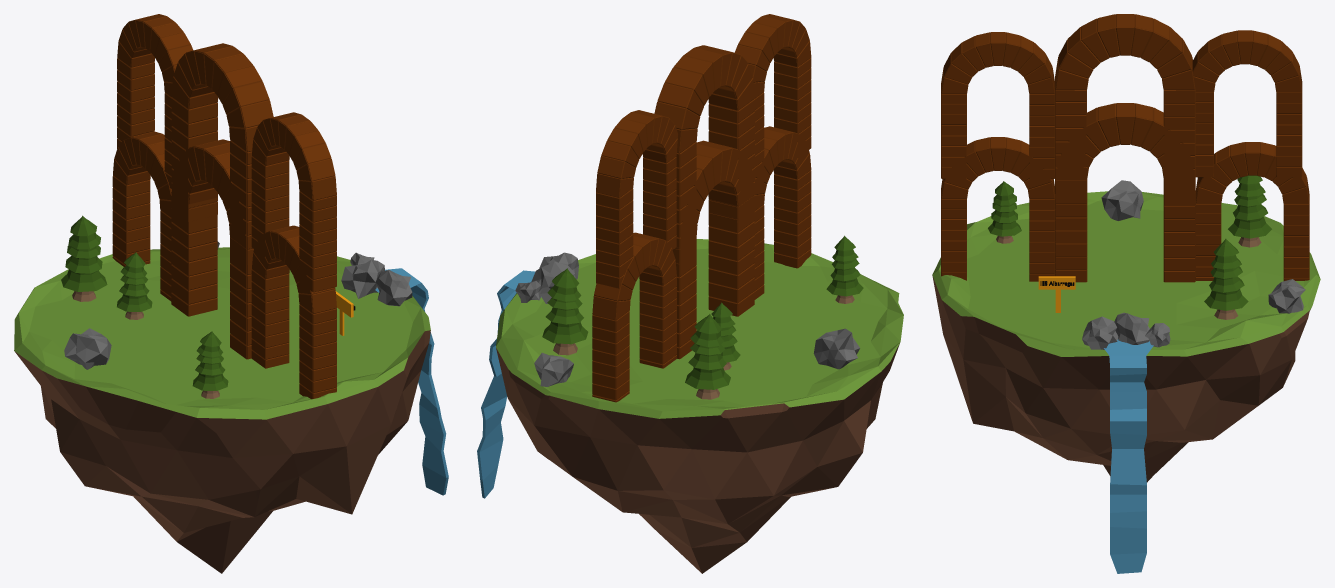
Rendered from islacueducto.glb.
3 renders of one model, left to right at view 1: azimuth 30°, elevation 25°; view 2: azimuth 150°, elevation 25°; view 3: azimuth 270°, elevation 25°, orthographic. The views are drawn at different scales.
Parts seen in each view (by area): view 1: Isla, Acueducto.004, Acueducto.005, Acueducto, Acueducto.002, Acueducto.001, Acueducto.003, Agua, Arbol, Arbol.001, Arbol.003, Roca 3.001 (+2 smaller); view 2: Isla, Acueducto.004, Acueducto, Acueducto.003, Acueducto.001, Acueducto.005, Acueducto.002, Agua, Arbol.002, Arbol, Arbol.001, Roca 3.001 (+3 smaller); view 3: Isla, Acueducto, Acueducto.004, Acueducto.005, Agua, Acueducto.003, Acueducto.002, Acueducto.001, Arbol.002, Arbol, Arbol.001, Roca 3.001 (+4 smaller).
Part boxes in pixels (x1,y1,x2,y2): Isla: (14,247,430,573); Acueducto.004: (171,43,273,264); Acueducto.005: (251,112,336,292); Acueducto: (171,139,253,359); Acueducto.002: (251,225,336,399); Acueducto.001: (112,131,171,301); Acueducto.003: (117,14,193,188); Agua: (375,268,448,495); Arbol: (61,215,107,301); Arbol.001: (192,331,228,398); Arbol.003: (117,252,152,319); Roca 3.001: (64,328,111,369); Isla: (496,239,903,573); Acueducto.004: (654,45,754,263); Acueducto: (672,140,754,359); Acueducto.003: (596,110,677,288); Acueducto.001: (592,232,676,402); Acueducto.005: (735,14,811,182); Acueducto.002: (754,126,811,299); Agua: (477,270,535,498); Arbol.002: (542,268,588,355); Arbol: (685,314,730,399); Arbol.001: (826,235,863,303); Roca 3.001: (813,328,859,369); Isla: (932,191,1320,482); Acueducto: (1055,103,1195,282); Acueducto.004: (1055,14,1195,194); Acueducto.005: (941,32,1055,178); Agua: (1104,339,1153,573); Acueducto.003: (1192,30,1302,177); Acueducto.002: (941,137,1055,281); Acueducto.001: (1195,142,1309,280); Arbol.002: (1204,238,1248,319); Arbol: (1228,175,1271,247); Arbol.001: (988,181,1021,243); Roca 3.001: (1101,180,1143,220).
Size of the model in its own units: 23.1 by 28.88 by 21.03.
Materials: 12 (7 with a texture image).
